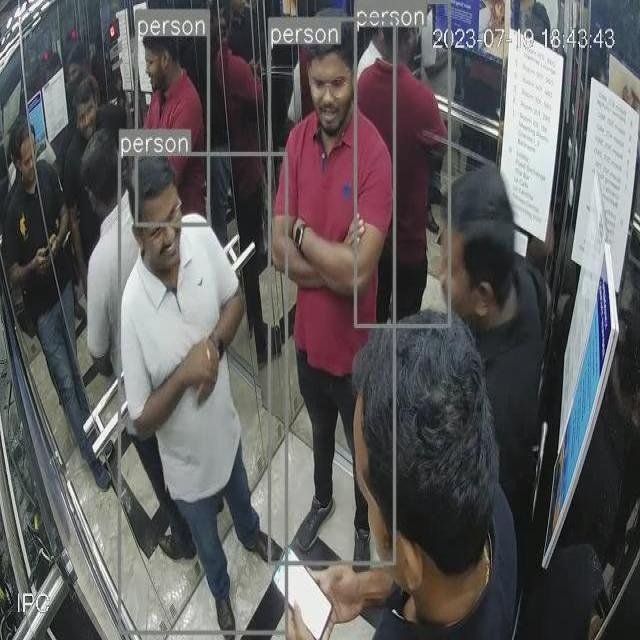person: (119, 155, 288, 634), (292, 316, 527, 636), (267, 22, 397, 562), (0, 107, 118, 494), (449, 175, 566, 505), (357, 2, 449, 330), (139, 31, 211, 222), (62, 73, 129, 268)
